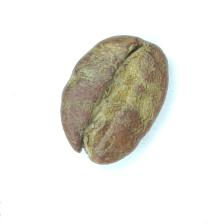NG: (64, 36, 166, 140)
